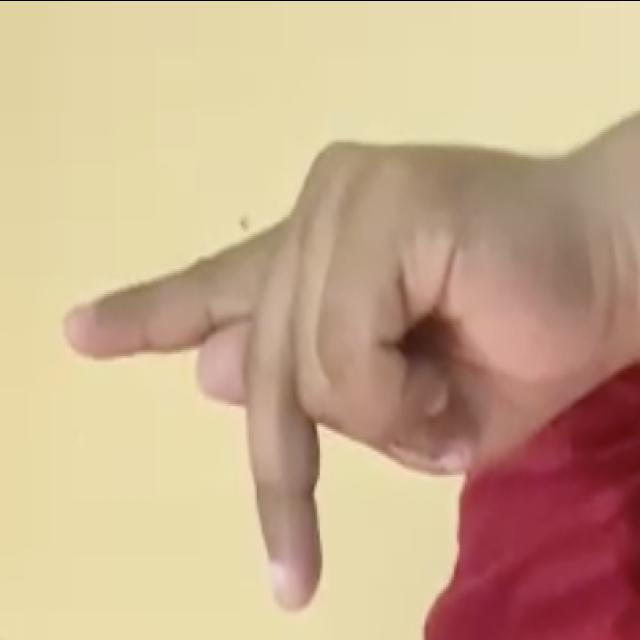P: (56, 125, 592, 625)
